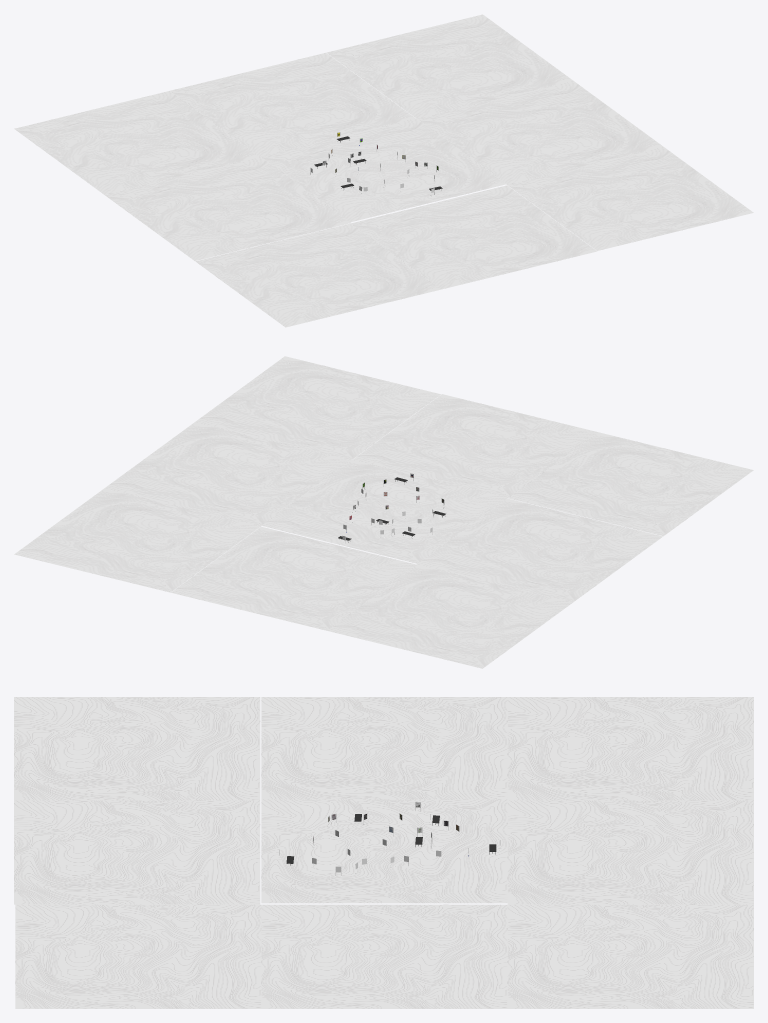
Rendered from room2_notthatsmol.glb.
The picture shows the model from 3 angles, top to bottom: view 1: azimuth 30°, elevation 25°; view 2: azimuth 150°, elevation 25°; view 3: azimuth 270°, elevation 25°; orthographic projection. The views are drawn at different scales.
Parts seen in each view (by area): view 1: Plane.029, Plane.030, Plane.028, Plane.032, Plane.031, Plane.034, Plane.033, Plane.027, Plane.026; view 2: Plane.030, Plane.027, Plane.029, Plane.032, Plane.034, Plane.031, Plane.028, Plane.033, Plane.026; view 3: Plane.027, Plane.028, Plane.031, Plane.030, Plane.029, Plane.034, Plane.033, Plane.032, Plane.026.
Part boxes in pixels (x1,y1,x2,y2): Plane.029: [507, 146, 753, 250]; Plane.030: [326, 14, 572, 118]; Plane.028: [351, 185, 597, 289]; Plane.032: [105, 157, 350, 260]; Plane.031: [418, 80, 662, 184]; Plane.034: [195, 223, 440, 327]; Plane.033: [14, 91, 258, 194]; Plane.027: [170, 52, 414, 156]; Plane.026: [260, 118, 506, 222]; Plane.030: [14, 488, 260, 592]; Plane.027: [171, 526, 417, 630]; Plane.029: [195, 356, 440, 460]; Plane.032: [416, 498, 662, 602]; Plane.034: [508, 432, 753, 536]; Plane.031: [105, 422, 349, 526]; Plane.028: [352, 394, 598, 498]; Plane.033: [327, 565, 572, 668]; Plane.026: [261, 459, 507, 563]; Plane.027: [507, 800, 753, 904]; Plane.028: [14, 800, 260, 904]; Plane.031: [261, 904, 507, 1008]; Plane.030: [507, 904, 753, 1008]; Plane.029: [15, 904, 261, 1008]; Plane.034: [14, 697, 260, 800]; Plane.033: [507, 697, 753, 800]; Plane.032: [261, 697, 507, 799]; Plane.026: [261, 799, 507, 903].
Size of the model in its own units: 181 by 3.02 by 182.
Materials: 32 (27 with a texture image).
